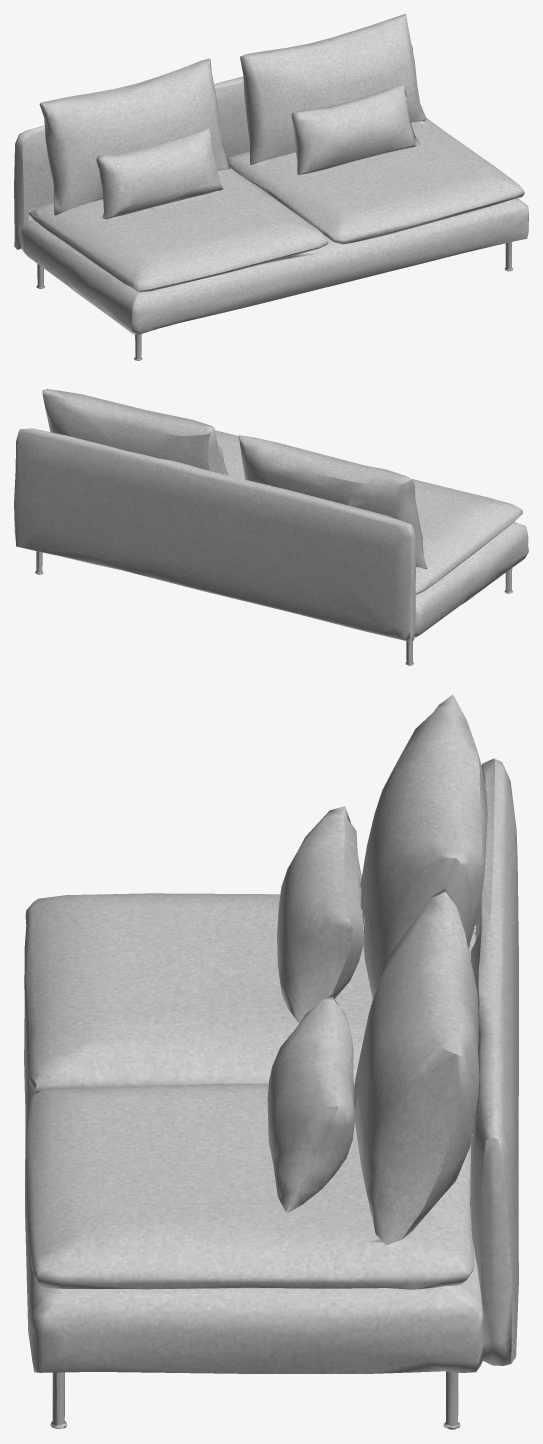
File: cover-tallmyra-bialy-czarny.glb
3 renders of one model, top to bottom at view 1: azimuth 30°, elevation 25°; view 2: azimuth 150°, elevation 25°; view 3: azimuth 270°, elevation 25°, orthographic. The views are drawn at different scales.
Visible parts, largest first — view 1: ProcessedMeshNode; view 2: ProcessedMeshNode; view 3: ProcessedMeshNode.
Boxes of the visible parts, x1,y1,x2,y2 form: ProcessedMeshNode: (14,14,528,360); ProcessedMeshNode: (14,389,528,665); ProcessedMeshNode: (24,694,518,1429).
Size of the model in its own units: 1.86 by 0.83 by 0.9901.
Materials: 2 (2 with a texture image).
